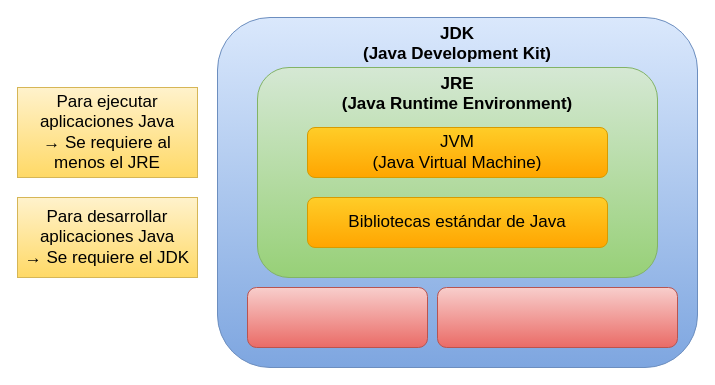
Some shapes in this 715 by 385 pixel diagram are drawn without their labels. The shapes that lost their labels are listed below. From the top down, each one's centre as x and y in pixels, then its label:
(x=337, y=317): Compilador Java (javac)
(x=557, y=317): Herramientas adicionales (ejecución y monitoreo)
